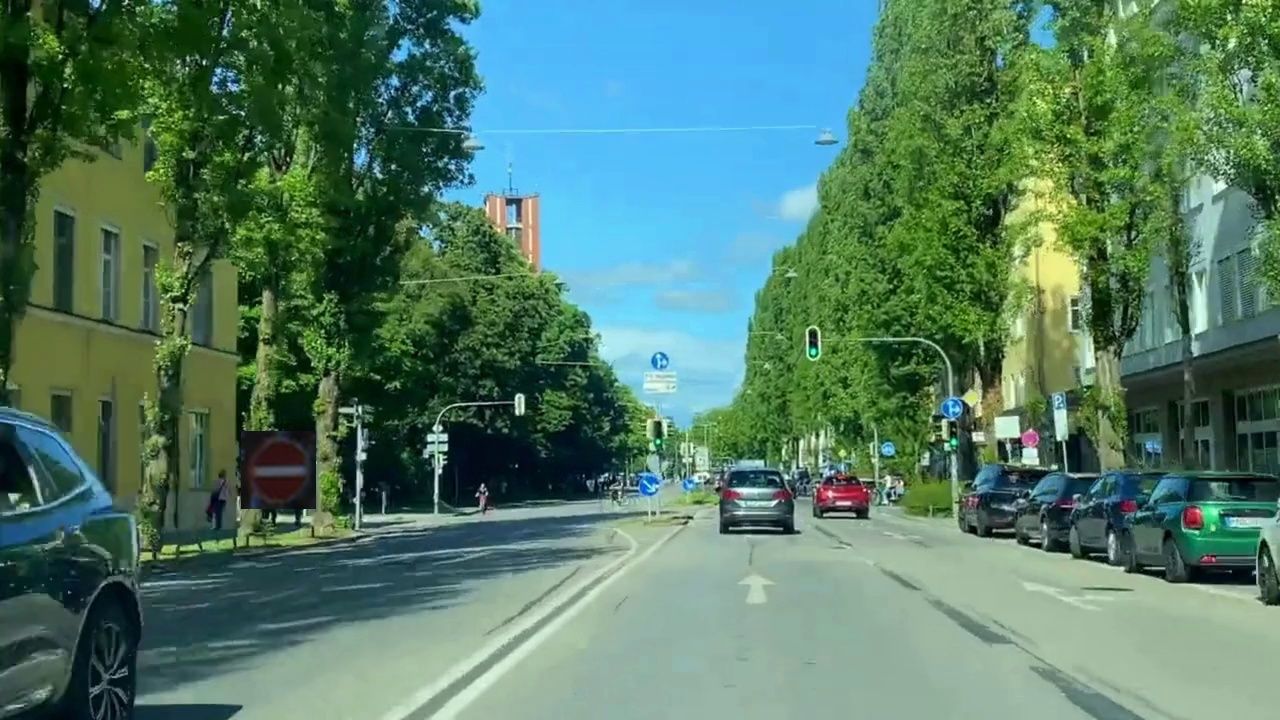No entry: (241, 431, 316, 509)
